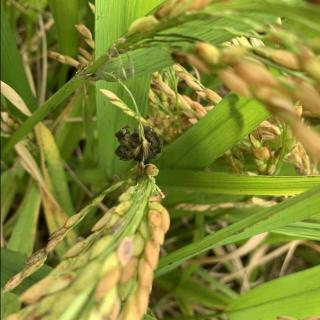Gosong-Palsu: (114, 124, 162, 166)
